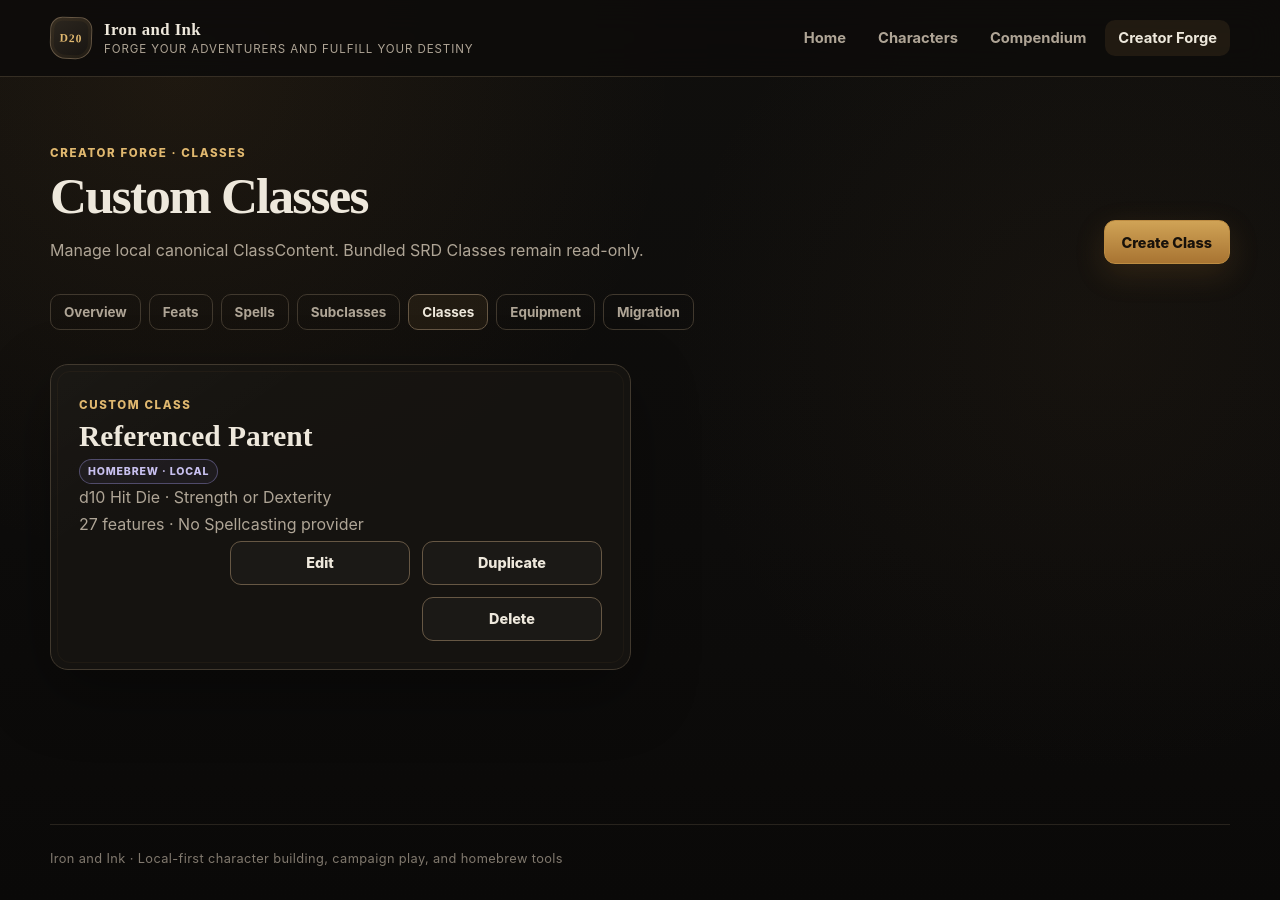
it: M16-G routed referential-integrity acceptance › blocks deleting a Class while a custom Subclass still points at it
Click the button "Delete".
click(512, 619)  # box x1=422 y1=597 x2=602 y2=641
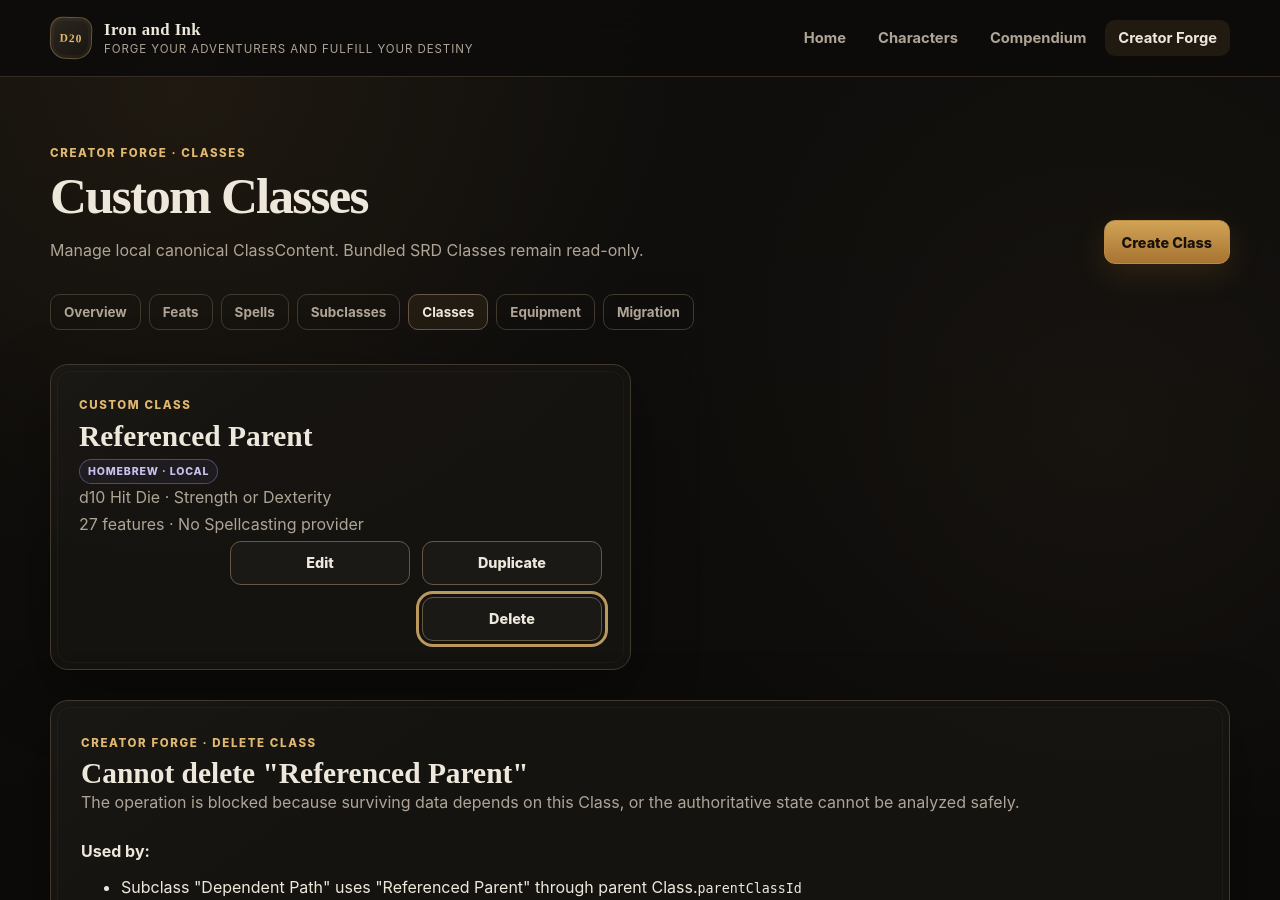
Check: the heading "Cannot delete \"Referenced Parent\"" is shown, box x1=81 y1=757 x2=529 y2=789
Check: the element named "Delete blockers" shows "Dependent Path", box x1=121 y1=877 x2=698 y2=897
